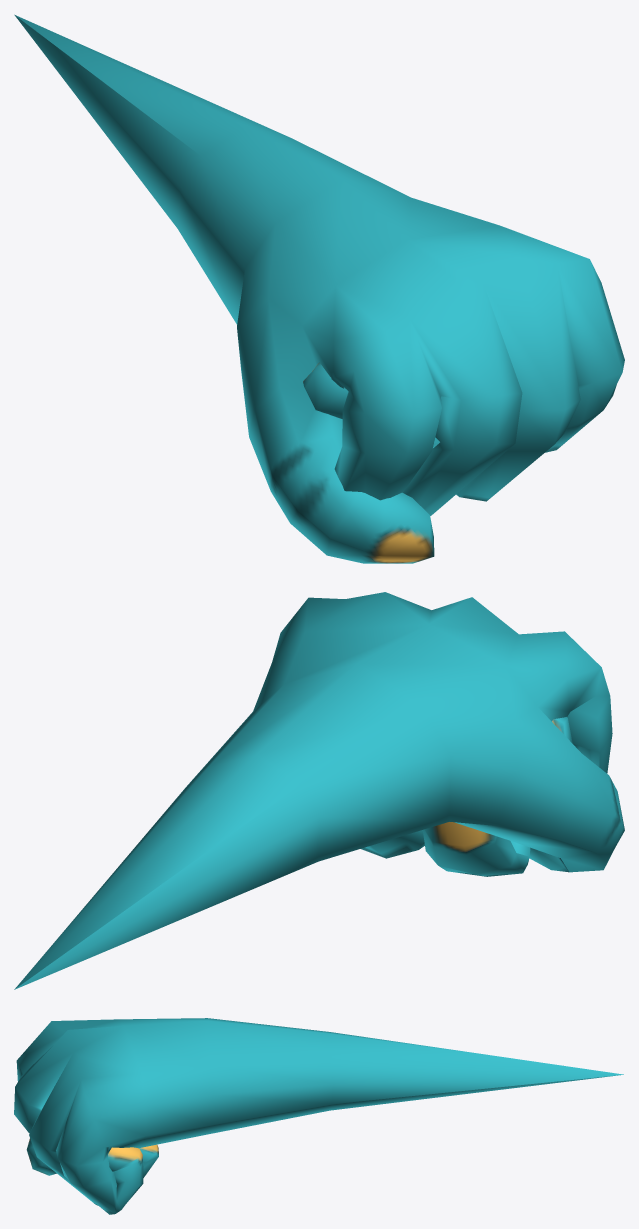
File: jttz_quantou_1.FBX
3 renders of one model, top to bottom at view 1: azimuth 30°, elevation 25°; view 2: azimuth 150°, elevation 25°; view 3: azimuth 270°, elevation 25°, orthographic. The views are drawn at different scales.
Parts seen in each view (by area): view 1: jttz_quantou_1; view 2: jttz_quantou_1; view 3: jttz_quantou_1.
Part boxes in pixels (left/top/right/bottom): jttz_quantou_1: left=14, top=14, right=624, bottom=563; jttz_quantou_1: left=14, top=592, right=624, bottom=989; jttz_quantou_1: left=14, top=1018, right=623, bottom=1214.
Bounding box in the file's own units: 20.67 × 15.93 × 51.27.
